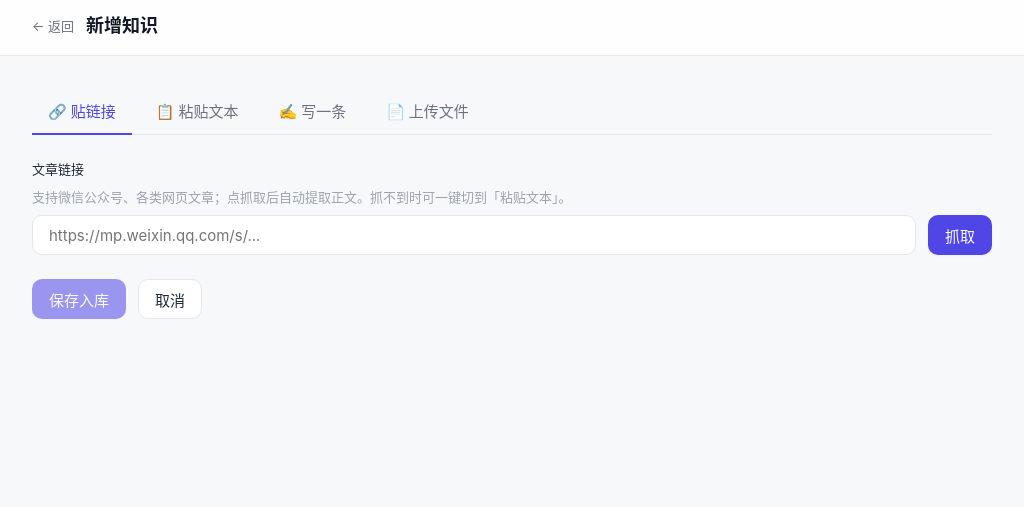
it: C-ING-03 失败回退入口 › 抓取失败显示提示且一键切到粘贴文本
Type "https://x.test/404" into the field labelled "文章链接" at (474,235), box [32,215,916,255]
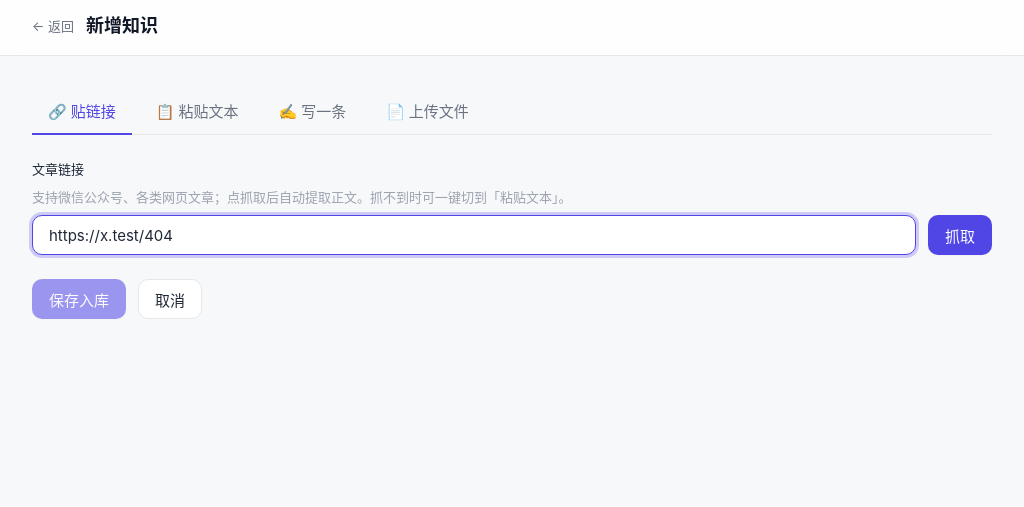
Click the button "抓取" at (960,235), box [928,215,992,255]
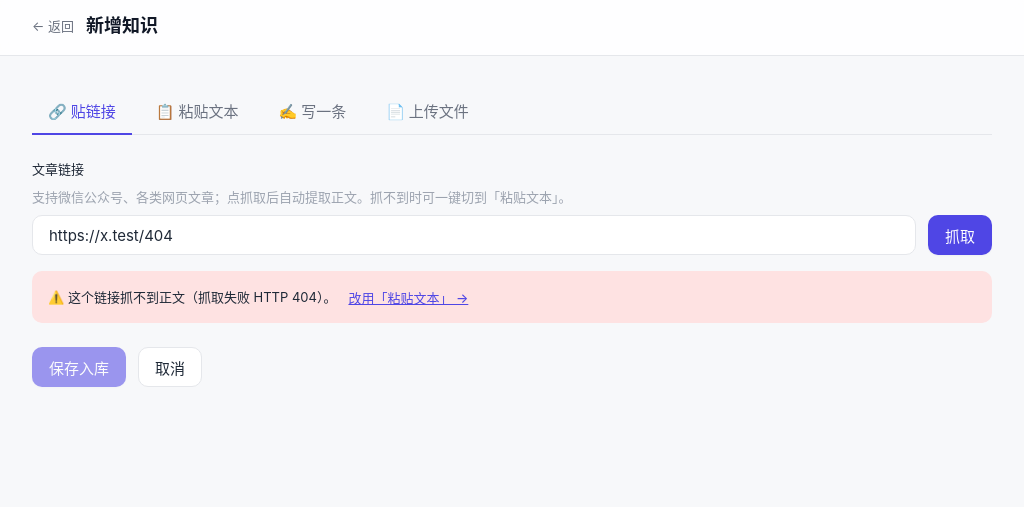
Check: the text "⚠️ 这个链接抓不到正文（抓取失败 HTTP 404）。 改用「粘贴文本」 →" is shown, box [32,271,992,323]
Click the button "改用「粘贴文本」 →" at (408,297), box [348,288,468,307]
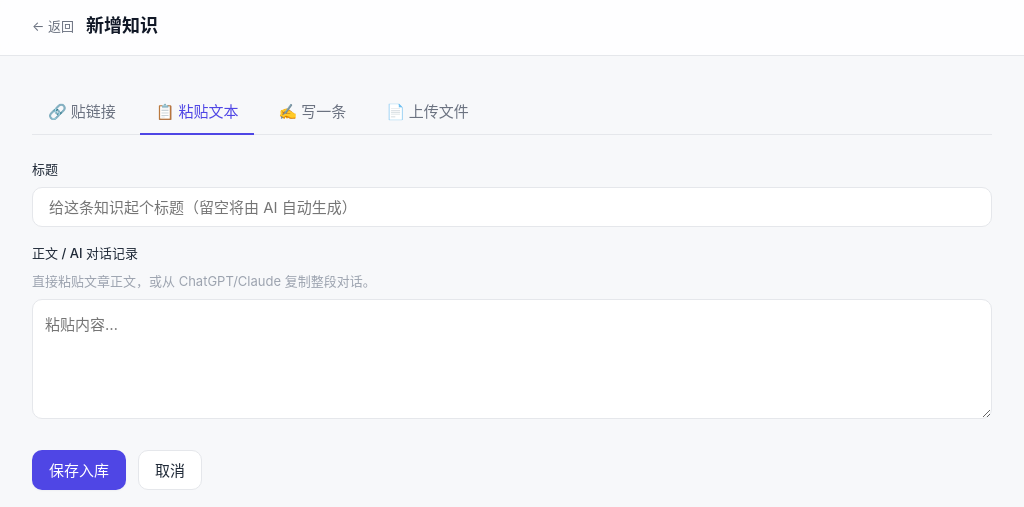
Check: the text box labelled "正文 / AI 对话记录" is shown, box [32,299,992,419]
